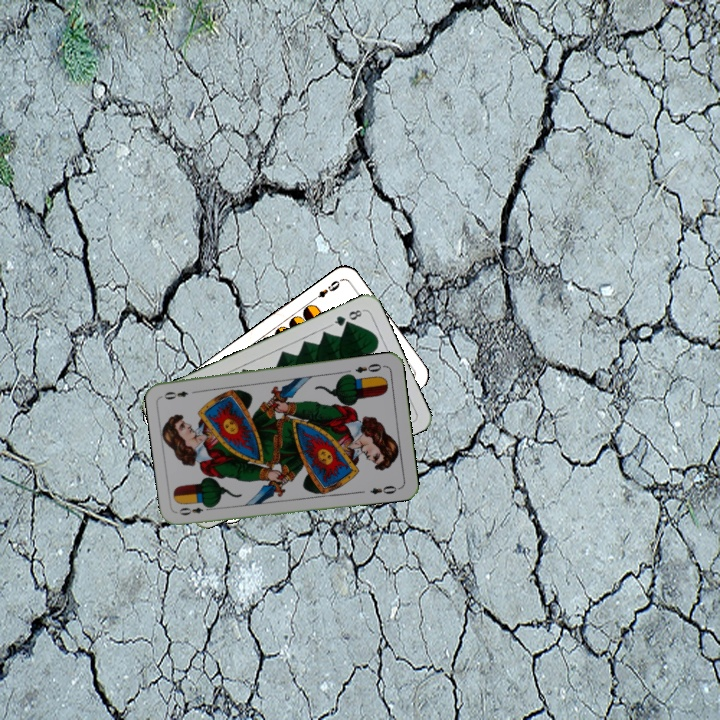E9: (308, 276, 344, 304)
EO: (175, 501, 215, 518), (351, 359, 387, 375)
G8: (328, 305, 366, 329)
